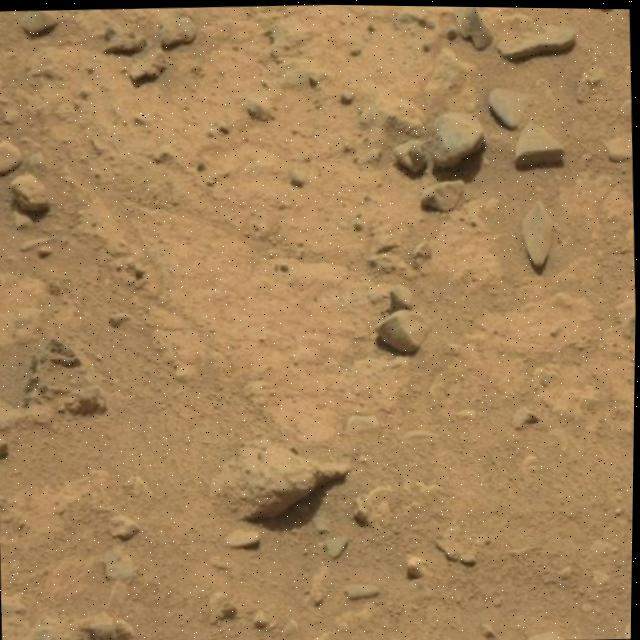mars-rocks: (211, 439, 352, 520), (433, 110, 485, 166), (496, 24, 575, 58), (376, 309, 431, 352), (515, 121, 564, 167), (522, 199, 553, 267), (453, 5, 493, 47), (489, 86, 528, 127), (9, 174, 48, 213)
